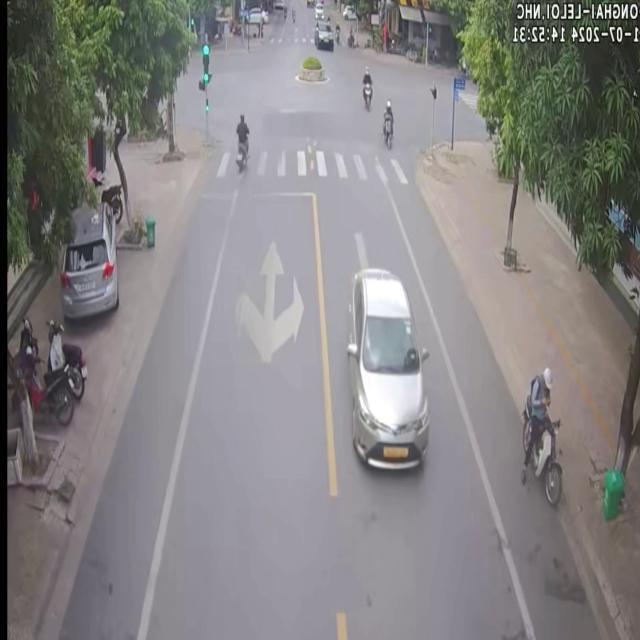car: (346, 267, 427, 467), (59, 200, 117, 317), (312, 18, 332, 49)
green_light: (201, 46, 209, 84)
motobike: (519, 365, 560, 502), (14, 347, 72, 422), (44, 318, 86, 398), (234, 111, 248, 171), (380, 98, 392, 147), (360, 65, 370, 108)
stop_line: (197, 191, 314, 200)
